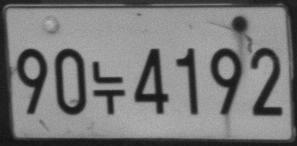0: (53, 47, 86, 116)
1: (173, 47, 206, 115)
2: (249, 46, 284, 116)
4: (133, 47, 169, 114)
9: (209, 46, 242, 115), (16, 48, 47, 114)
누: (91, 60, 125, 115)
